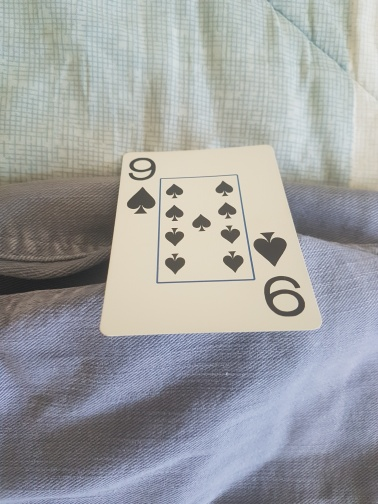nine: (99, 143, 322, 339)
